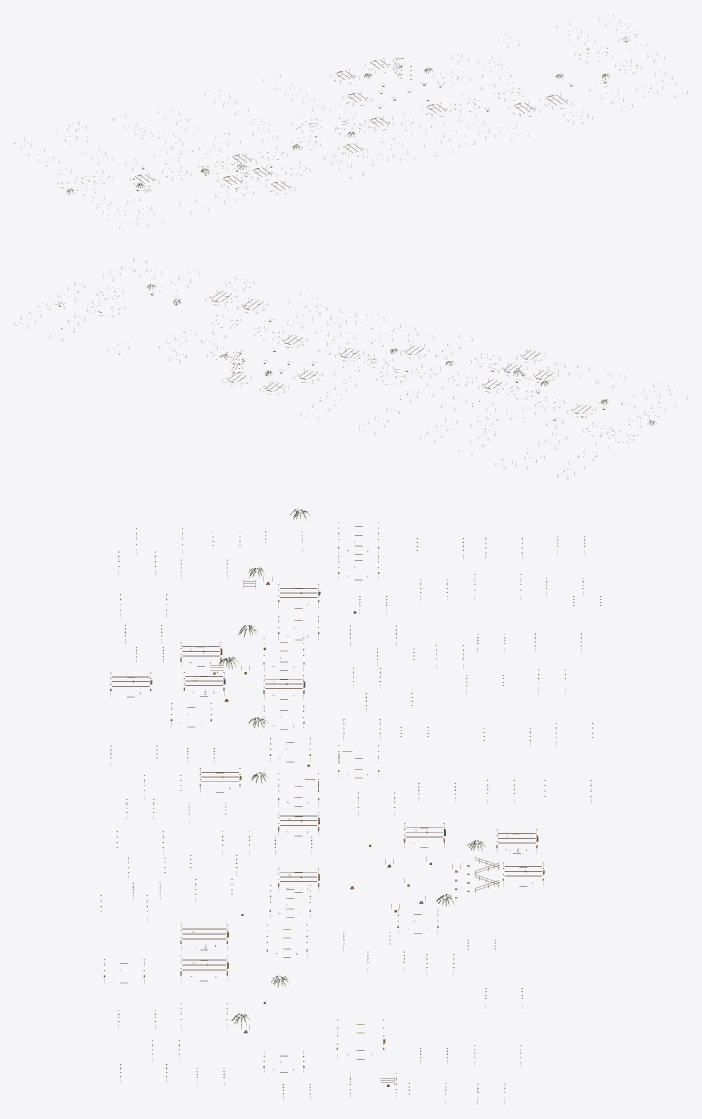
The model's file is detail.glb.
3 views of the same model, one above another, from view 1: azimuth 30°, elevation 25°; view 2: azimuth 150°, elevation 25°; view 3: azimuth 270°, elevation 25° (orthographic). The views are drawn at different scales.
Size of the model in its own units: 429 by 13.47 by 157.
